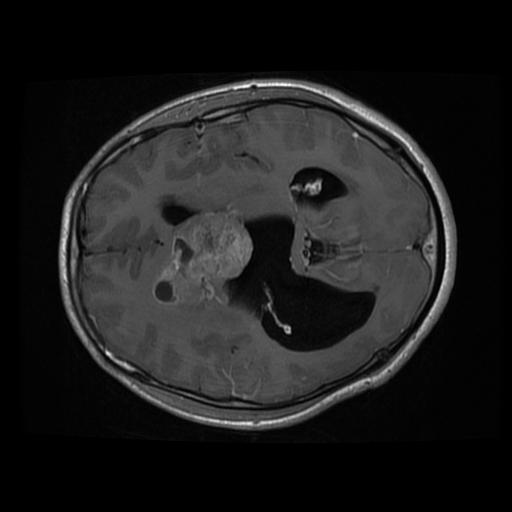glioma: (151, 208, 254, 309)
